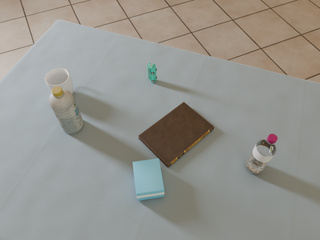book: (138, 102, 214, 167)
bottle: (49, 86, 84, 134), (246, 134, 277, 174)
box: (133, 158, 164, 201)
cup: (45, 68, 73, 94)
toy_car: (147, 63, 157, 83)
